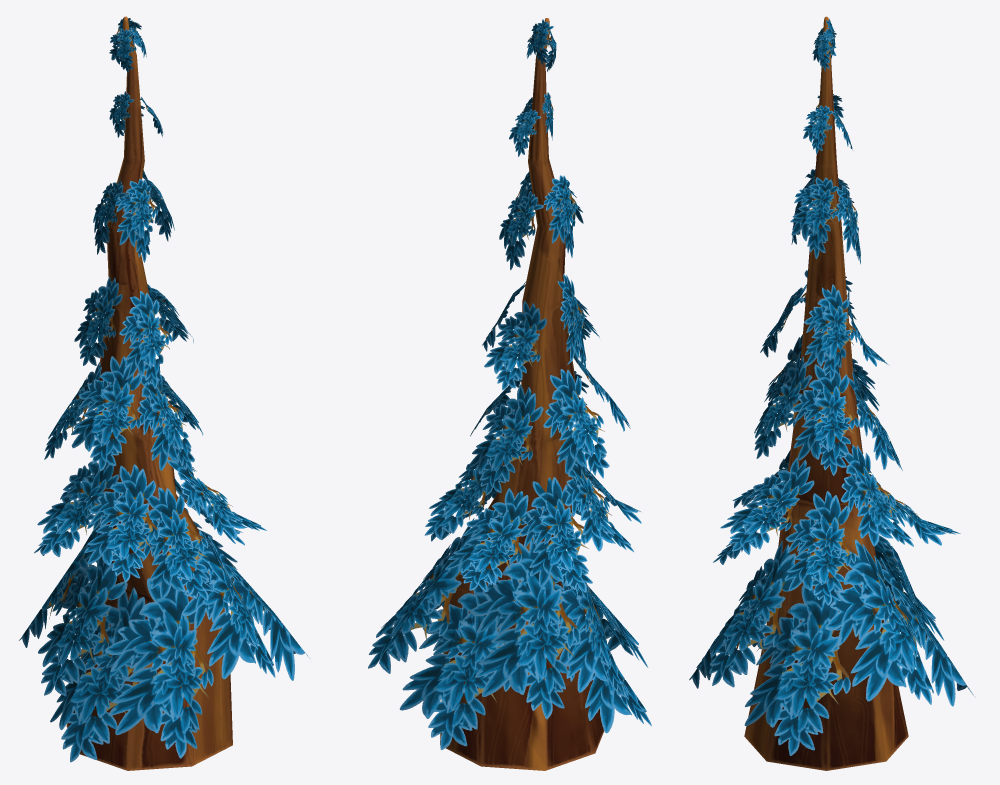
Rendered from 7_Azul.fbx.
3 views of the same model, side by side, from view 1: azimuth 30°, elevation 25°; view 2: azimuth 150°, elevation 25°; view 3: azimuth 270°, elevation 25° (orthographic). The views are drawn at different scales.
Visible parts, largest first — view 1: 7_Azul; view 2: 7_Azul; view 3: 7_Azul.
Boxes of the visible parts, x1,y1,x2,y2 form: 7_Azul: [19, 16, 308, 770]; 7_Azul: [368, 18, 651, 770]; 7_Azul: [689, 16, 975, 770].
Bounding box in the file's own units: 411 × 1081 × 415.
